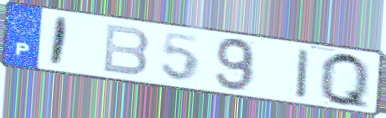5: (159, 30, 203, 84)
9: (212, 36, 258, 95)
B: (100, 22, 152, 78)
I: (47, 15, 72, 69), (295, 47, 312, 101)
Q: (318, 50, 372, 113)
